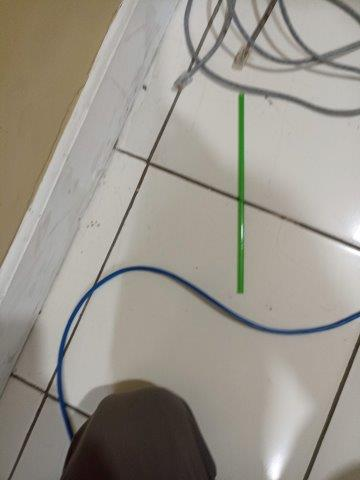sedotan: (238, 94, 245, 293)
